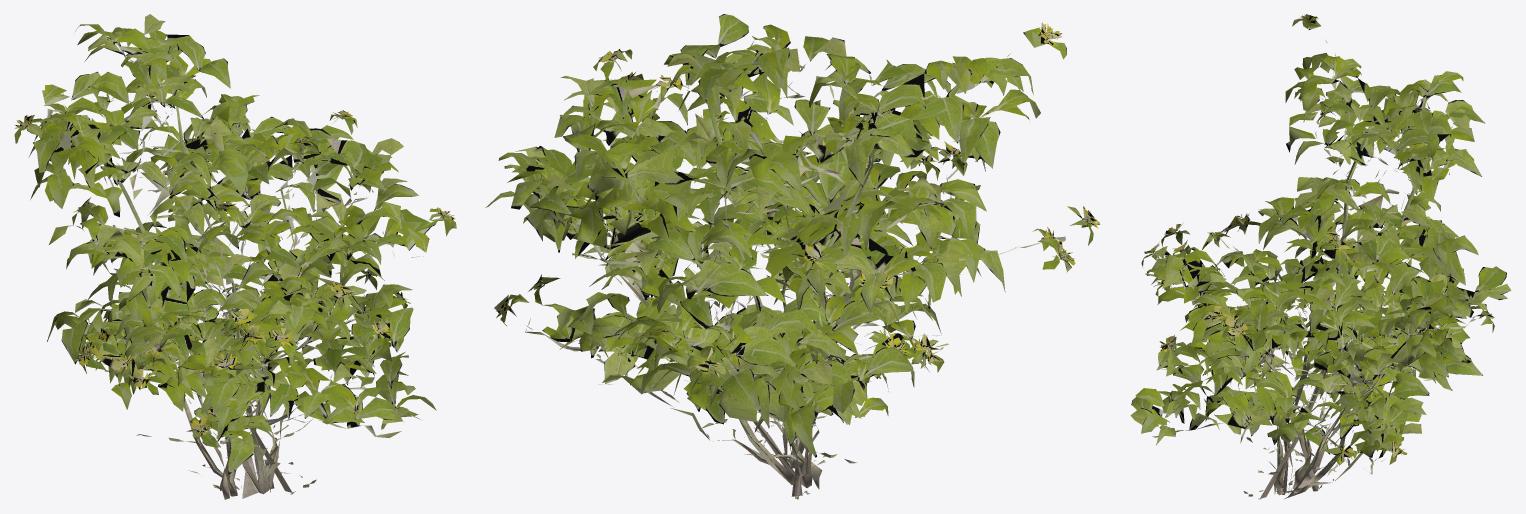
File: didelta.glb
3 views of the same model, side by side, from view 1: azimuth 30°, elevation 25°; view 2: azimuth 150°, elevation 25°; view 3: azimuth 270°, elevation 25° (orthographic). The views are drawn at different scales.
Parts seen in each view (by area): view 1: didelta_spinosa_large_LOD0, didelta_spinosa_medium_LOD0, didelta_spinosa_small_LOD0; view 2: didelta_spinosa_large_LOD0, didelta_spinosa_medium_LOD0, didelta_spinosa_small_LOD0; view 3: didelta_spinosa_large_LOD0, didelta_spinosa_medium_LOD0, didelta_spinosa_small_LOD0.
Part boxes in pixels (x1,y1,x2,y2): didelta_spinosa_large_LOD0: (14,14,456,498); didelta_spinosa_medium_LOD0: (47,194,363,490); didelta_spinosa_small_LOD0: (128,288,275,499); didelta_spinosa_large_LOD0: (485,14,1100,475); didelta_spinosa_medium_LOD0: (580,141,967,499); didelta_spinosa_small_LOD0: (668,261,929,489); didelta_spinosa_large_LOD0: (1130,14,1511,499); didelta_spinosa_medium_LOD0: (1153,240,1482,491); didelta_spinosa_small_LOD0: (1209,298,1429,489).
Size of the model in its own units: 2.11 by 2.06 by 1.81.
Materials: 1 (1 with a texture image).
